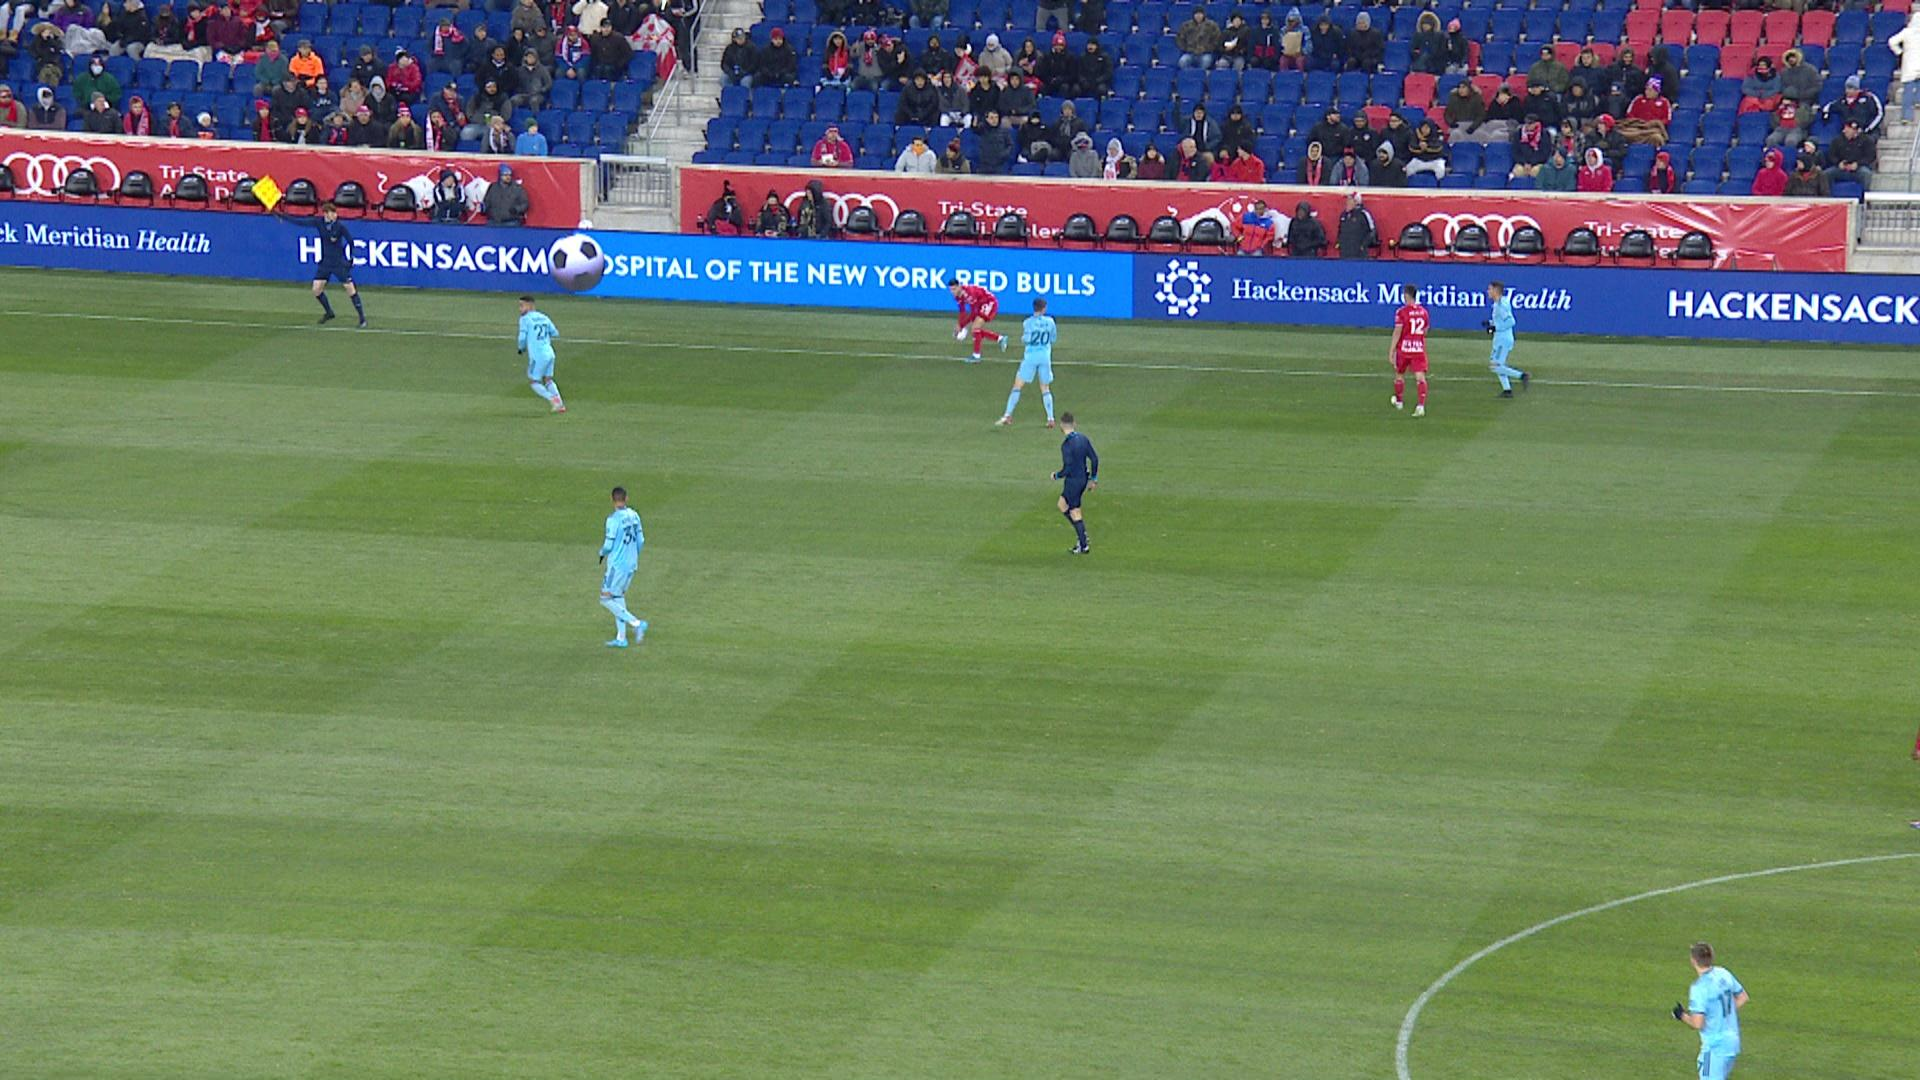football: (957, 327, 968, 340)
